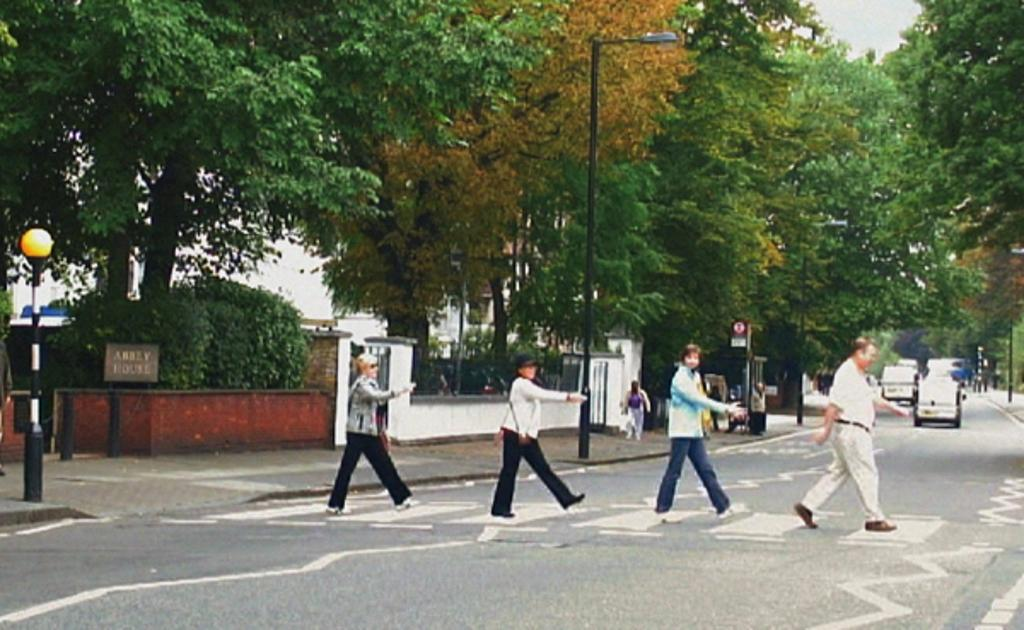face: (861, 345, 875, 367), (364, 358, 378, 376), (522, 359, 535, 378), (685, 349, 698, 367), (631, 382, 637, 391)
